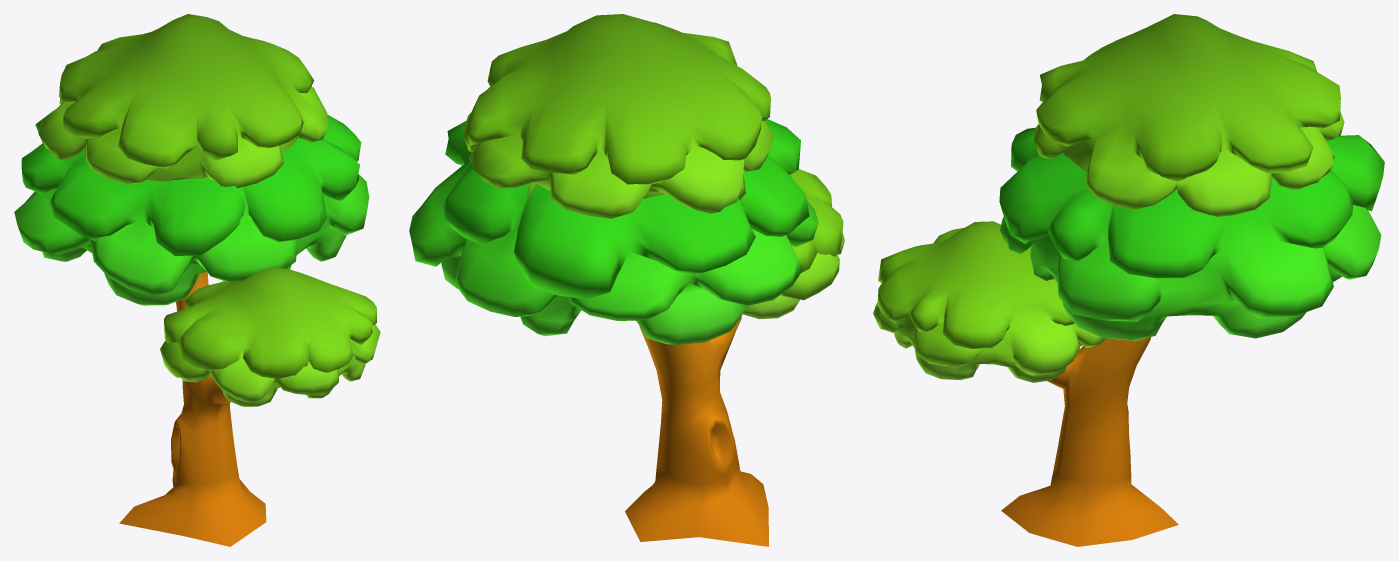
The model's file is Tree_02.fbx.
3 views of the same model, side by side, from view 1: azimuth 30°, elevation 25°; view 2: azimuth 150°, elevation 25°; view 3: azimuth 270°, elevation 25° (orthographic). The views are drawn at different scales.
Visible parts, largest first — view 1: Tree_02; view 2: Tree_02; view 3: Tree_02.
Part boxes in pixels (<box>): Tree_02: <box>14,14,380,546</box>; Tree_02: <box>409,14,844,546</box>; Tree_02: <box>873,14,1384,546</box>.
Bounding box in the file's own units: 279 × 397 × 357.
